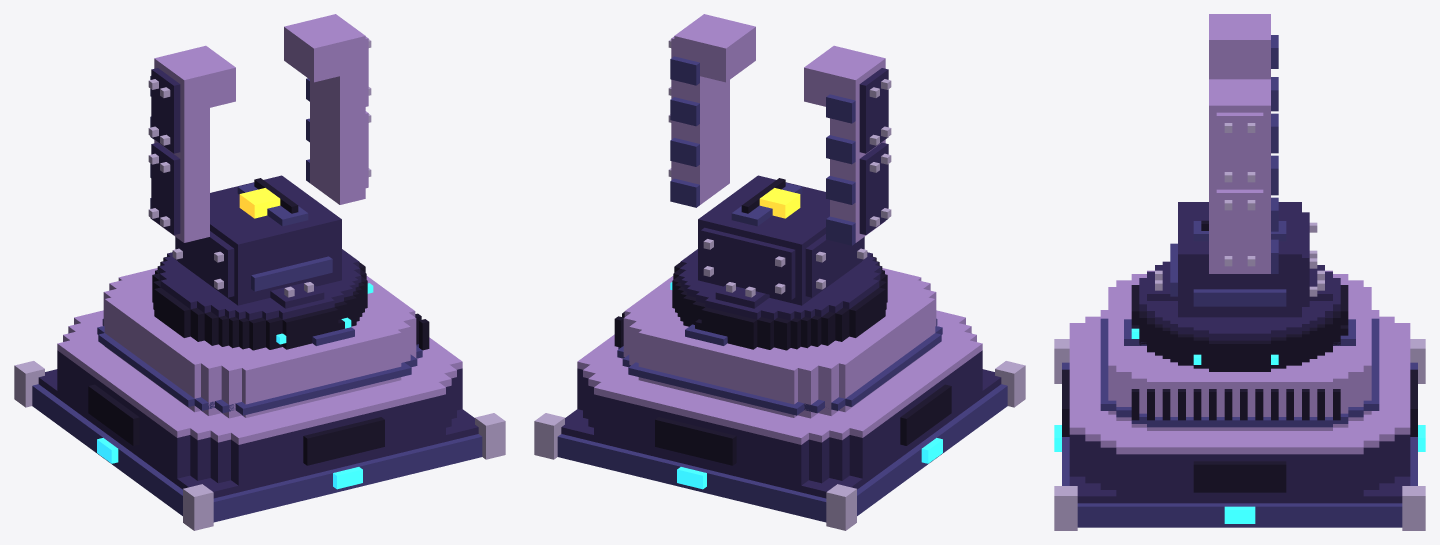
The model's file is docking-clamp.lg.glb.
The picture shows the model from 3 angles, left to right: view 1: azimuth 30°, elevation 25°; view 2: azimuth 150°, elevation 25°; view 3: azimuth 270°, elevation 25°; orthographic projection. The views are drawn at different scales.
Visible parts, largest first — view 1: docking-clamp.lg; view 2: docking-clamp.lg; view 3: docking-clamp.lg.
Part boxes in pixels (x1,y1,x2,y2): docking-clamp.lg: (14, 14, 505, 530); docking-clamp.lg: (534, 14, 1025, 530); docking-clamp.lg: (1054, 14, 1425, 530).
Size of the model in its own units: 3 by 3.5 by 3.
